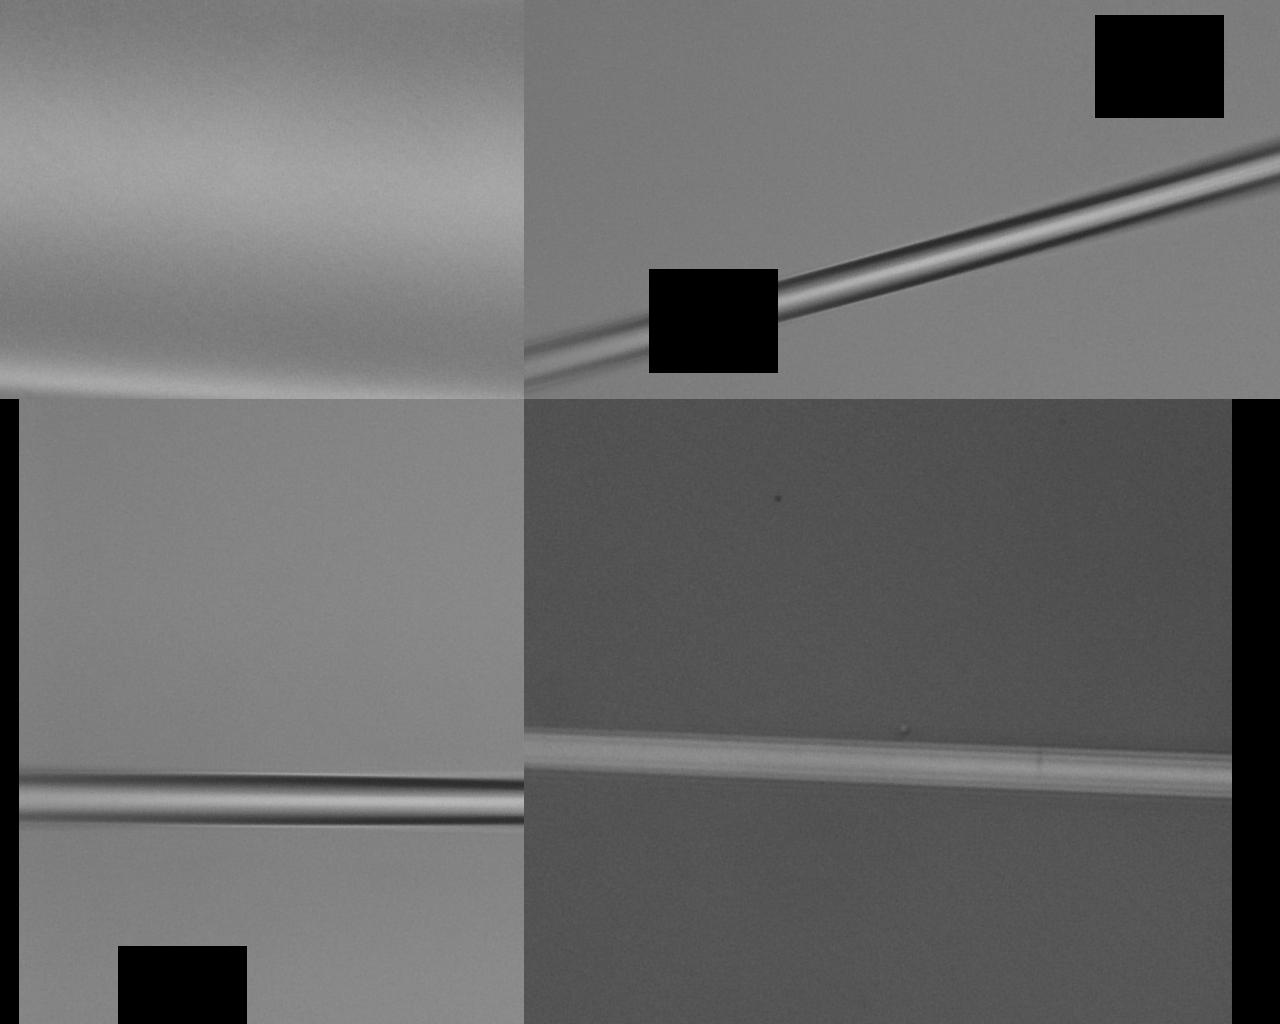fiber: (127, 227, 1151, 472)
